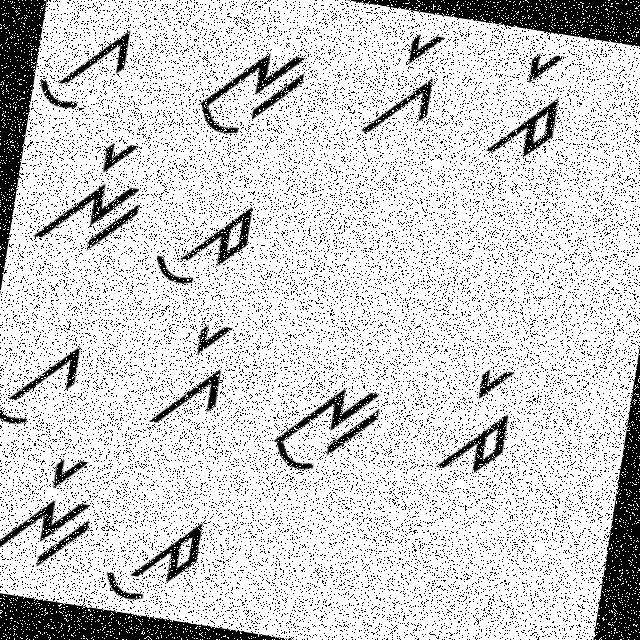gar: (138, 313, 248, 440), (356, 25, 450, 149)
gaw: (34, 10, 140, 132), (0, 315, 89, 446)
ngar: (21, 131, 150, 273), (0, 446, 107, 593)
ngaw: (264, 356, 390, 494), (183, 40, 313, 150)
tar: (474, 40, 578, 177), (428, 354, 534, 488)
taw: (100, 486, 218, 620), (142, 178, 262, 304)
